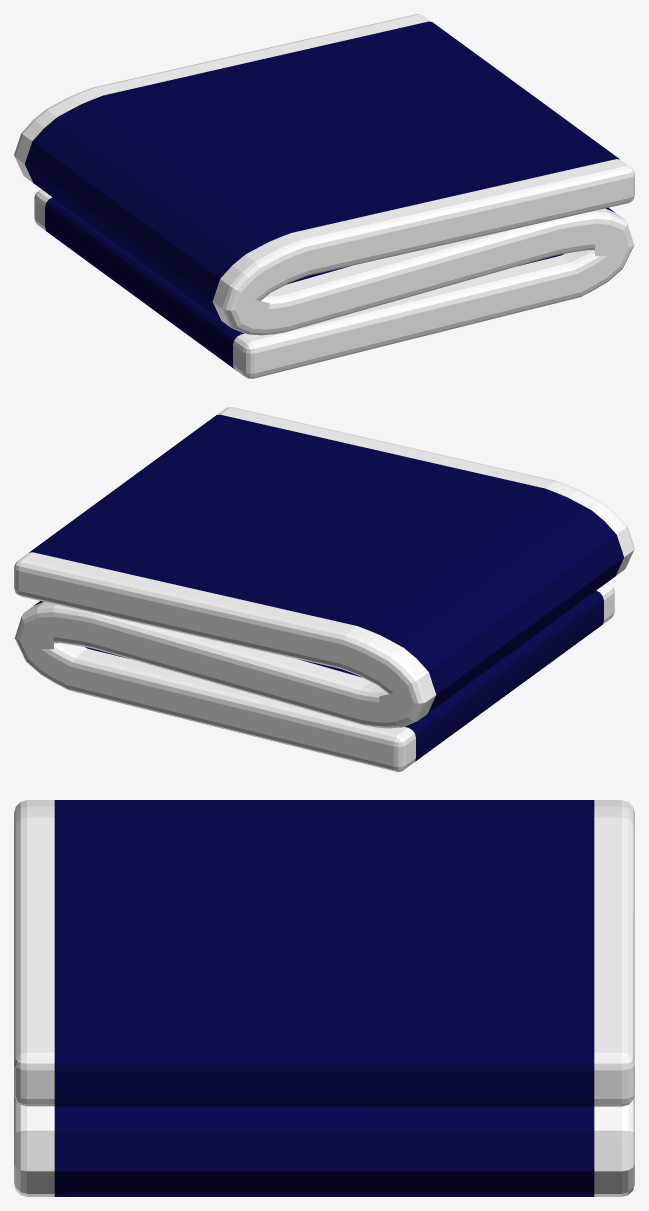
Rendered from Blanket2.fbx.
3 views of the same model, one above another, from view 1: azimuth 30°, elevation 25°; view 2: azimuth 150°, elevation 25°; view 3: azimuth 270°, elevation 25° (orthographic). The views are drawn at different scales.
Visible parts, largest first — view 1: Cube; view 2: Cube; view 3: Cube.
Part boxes in pixels (x1=…): Cube: x1=14, y1=14, x2=634, y2=378; Cube: x1=14, y1=407, x2=634, y2=771; Cube: x1=14, y1=800, x2=634, y2=1196.
Bounding box in the file's own units: 220 × 64.26 × 200.
